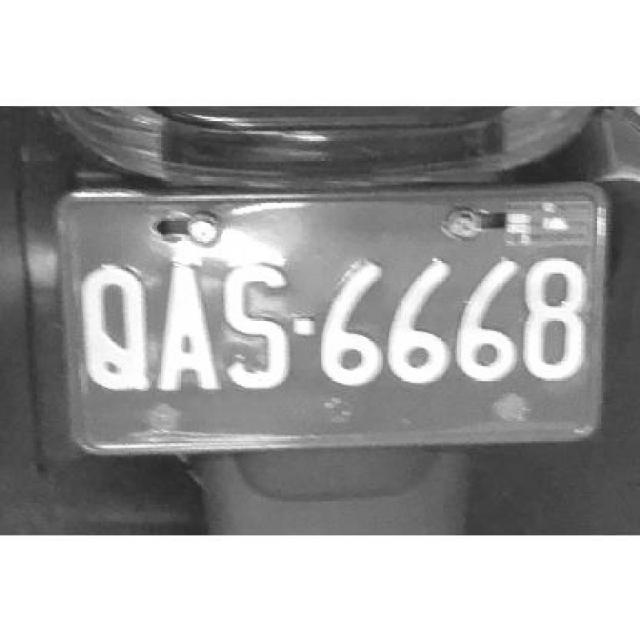-: (291, 312, 317, 337)
6: (386, 252, 452, 390), (456, 252, 522, 385), (320, 257, 383, 389)
8: (522, 252, 586, 386)
A: (155, 260, 220, 394)
Q: (77, 262, 154, 396)
S: (221, 260, 297, 394)
